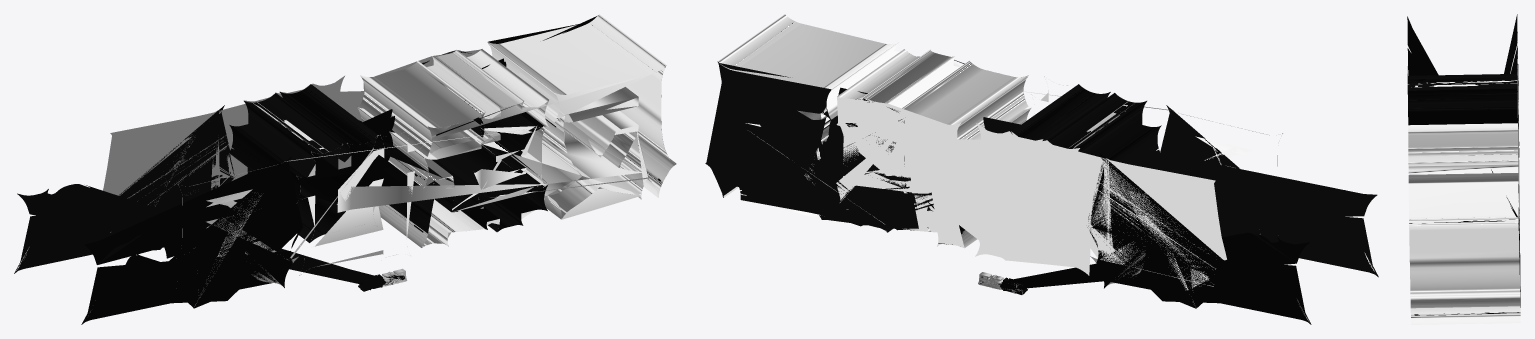
File: title.obj
3 renders of one model, left to right at view 1: azimuth 30°, elevation 25°; view 2: azimuth 150°, elevation 25°; view 3: azimuth 270°, elevation 25°, orthographic. The views are drawn at different scales.
Parts seen in each view (by area): view 1: テキスト; view 2: テキスト; view 3: テキスト.
Boxes of the visible parts, x1=… form: テキスト: x1=14, y1=14, x2=676, y2=324; テキスト: x1=705, y1=14, x2=1378, y2=324; テキスト: x1=1407, y1=14, x2=1520, y2=324.
Size of the model in its own units: 34.05 by 10.28 by 6.84.
3 materials, 1 textured.
